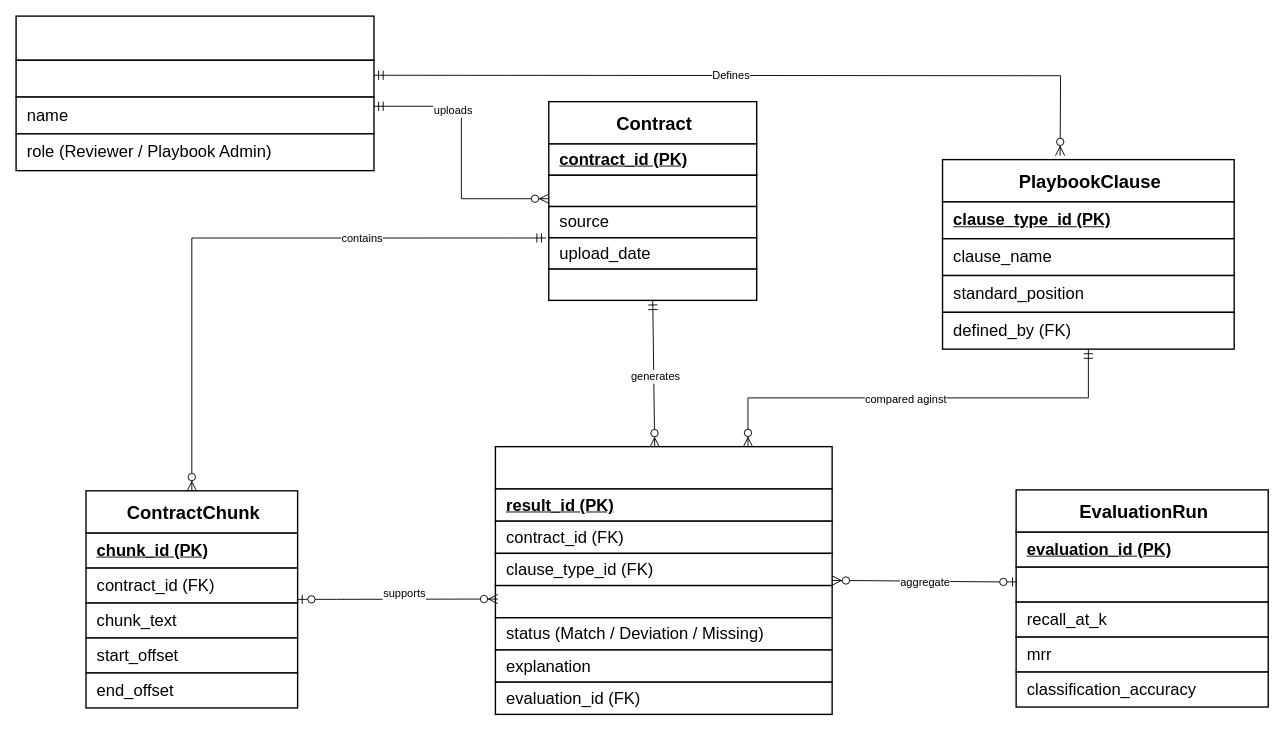
Image size: 1285x731. Some labels were removed from this diagram. The centre of each missing label's shape, as x and y in pixels:
"chunk_id (FK)" goes at [663,601].
"ComparisonResult" goes at [663,467].
"Reviewer" goes at [194,38].
"reviewer_id (PK)" goes at [194,78].
"run_date" goes at [1141,584].
"title" goes at [652,190].
"uploaded_by (FK)" goes at [652,284].
